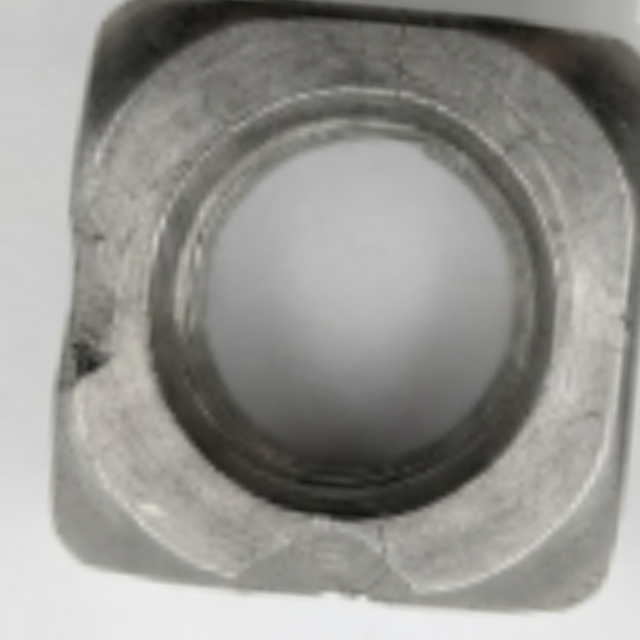defect: (219, 515, 426, 612), (42, 192, 129, 392)
